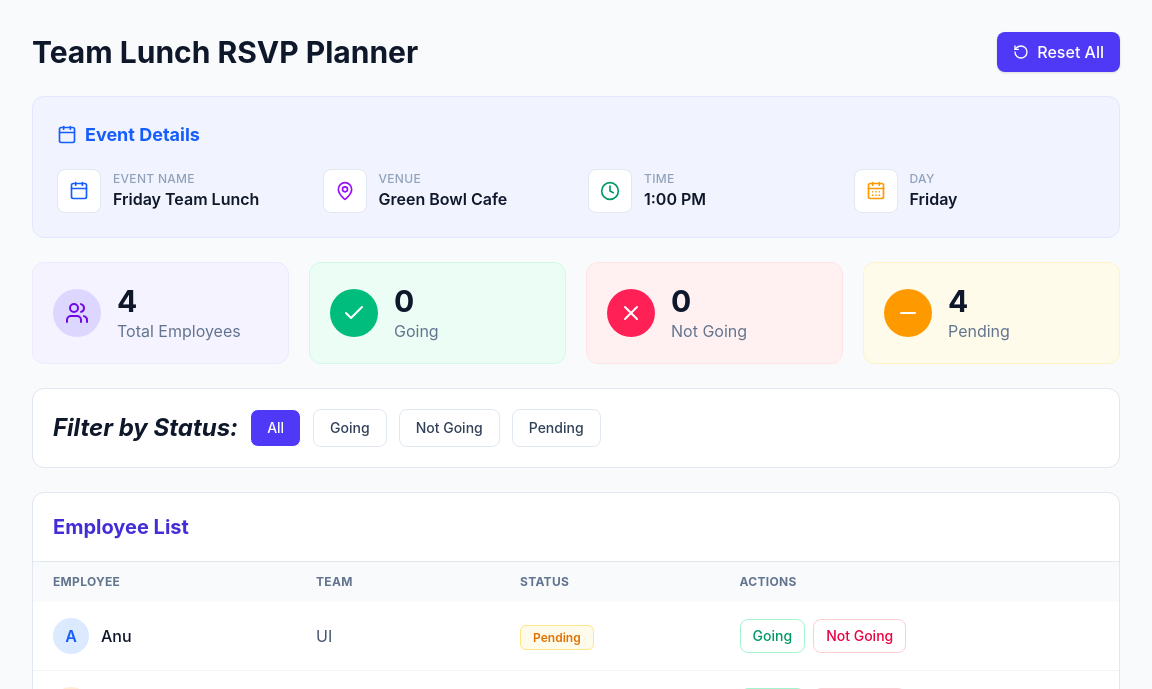
it: App › updates an employee's status and the summary counts when Going is clicked
What coordinates should you click on to do the following:
click the button with aria-label "Mark Anu as Going"
I would click on:
 (772, 636)
Its box is [740,619,805,653].
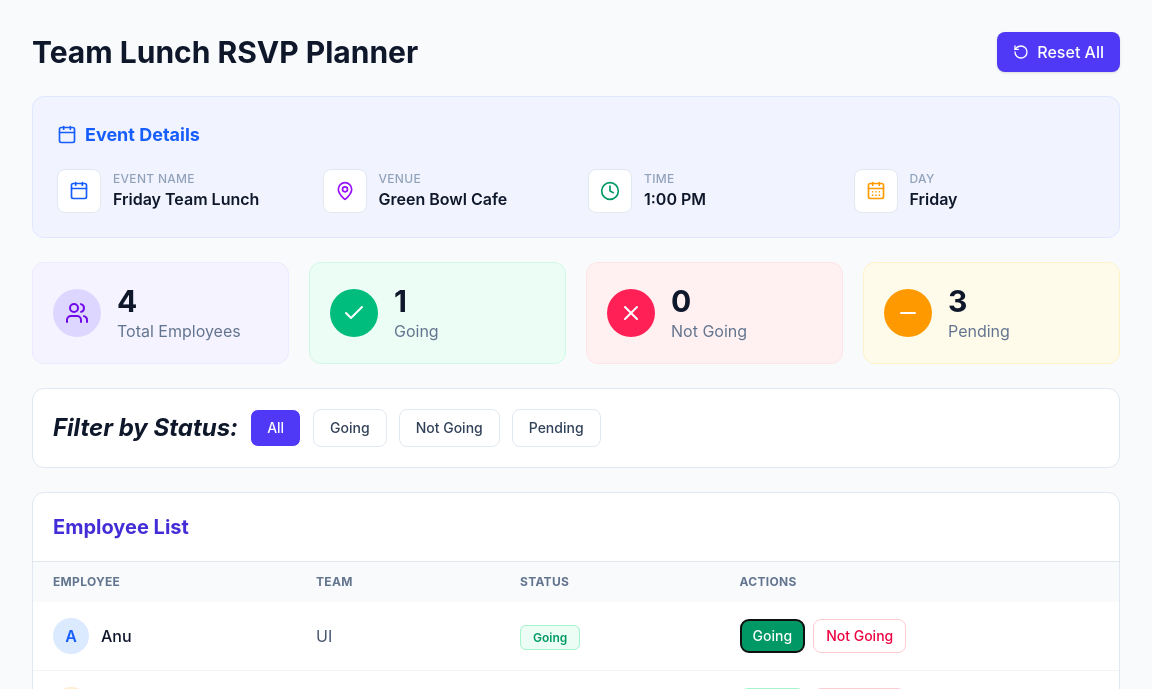
Result: the text with test id "status-badge-1" reads "Going" at [533,630,567,645]
Result: the element with test id "summary-going" shows "1" at [394,283,407,319]
Result: the element with test id "summary-pending" shows "3" at [948,283,967,319]
